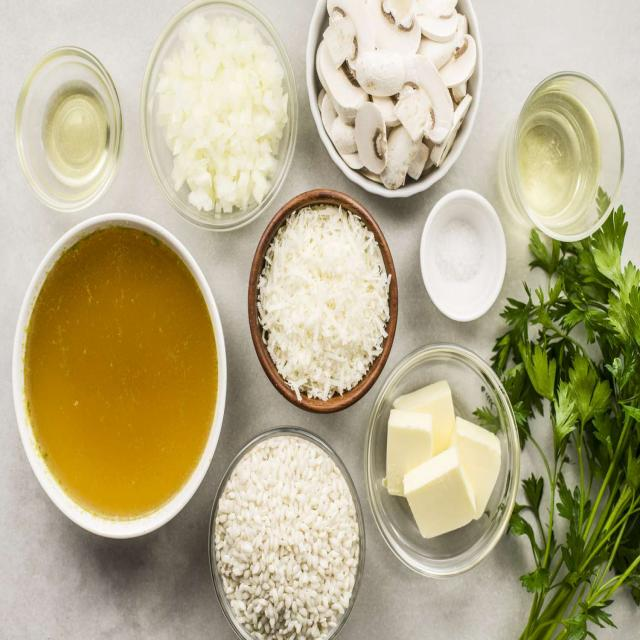mushroom: (314, 1, 480, 195)
salt: (434, 209, 489, 294)
